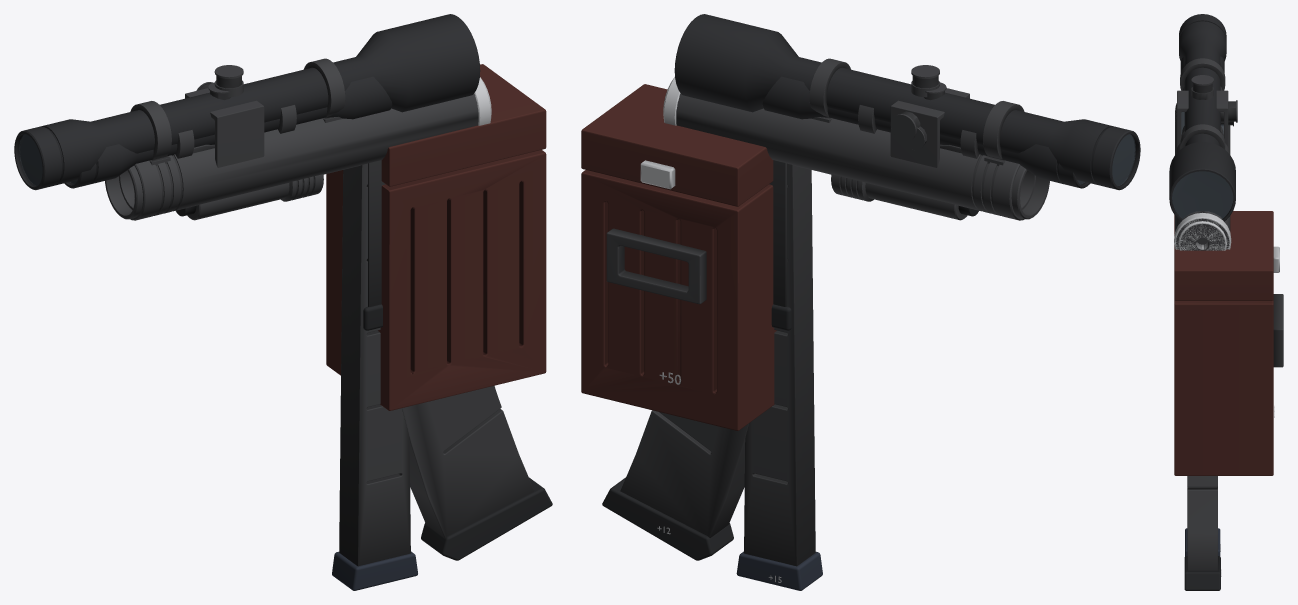
The model's file is kit.glb.
3 views of the same model, side by side, from view 1: azimuth 30°, elevation 25°; view 2: azimuth 150°, elevation 25°; view 3: azimuth 270°, elevation 25° (orthographic). The views are drawn at different scales.
Parts seen in each view (by area): view 1: KIT_mag_lmg, KIT_scope_long, KIT_mag_smg, KIT_mag_rifle, KIT_sup_sniper, KIT_scope, KIT_holo, KIT_mag_sniper, KIT_light, KIT_sup_lmg; view 2: KIT_mag_lmg, KIT_scope_long, KIT_mag_smg, KIT_sup_sniper, KIT_mag_rifle, KIT_scope, KIT_mag_sniper, KIT_light, KIT_holo, KIT_sup_lmg; view 3: KIT_mag_lmg, KIT_scope_long, KIT_mag_rifle, KIT_sup_sniper, KIT_sup_pistol, KIT_holo, KIT_scope.
Part boxes in pixels (left/top/right/bottom): KIT_mag_lmg: left=326, top=64, right=546, bottom=410; KIT_scope_long: left=14, top=14, right=480, bottom=190; KIT_mag_smg: left=332, top=163, right=417, bottom=590; KIT_mag_rifle: left=402, top=385, right=552, bottom=560; KIT_sup_sniper: left=130, top=77, right=491, bottom=220; KIT_scope: left=64, top=76, right=392, bottom=188; KIT_holo: left=185, top=88, right=264, bottom=167; KIT_mag_sniper: left=363, top=160, right=385, bottom=330; KIT_light: left=176, top=174, right=323, bottom=220; KIT_sup_lmg: left=105, top=165, right=142, bottom=219; KIT_mag_lmg: left=581, top=84, right=776, bottom=430; KIT_scope_long: left=674, top=14, right=1140, bottom=190; KIT_mag_smg: left=736, top=163, right=822, bottom=590; KIT_sup_sniper: left=663, top=77, right=1024, bottom=220; KIT_mag_rifle: left=602, top=410, right=748, bottom=560; KIT_scope: left=762, top=76, right=1090, bottom=188; KIT_mag_sniper: left=769, top=160, right=791, bottom=330; KIT_light: left=831, top=174, right=978, bottom=220; KIT_holo: left=890, top=88, right=969, bottom=167; KIT_sup_lmg: left=1011, top=165, right=1049, bottom=219; KIT_mag_lmg: left=1174, top=211, right=1283, bottom=475; KIT_scope_long: left=1169, top=14, right=1237, bottom=221; KIT_mag_rifle: left=1184, top=476, right=1221, bottom=590; KIT_sup_sniper: left=1174, top=103, right=1231, bottom=249; KIT_sup_pistol: left=1178, top=221, right=1226, bottom=250; KIT_holo: left=1177, top=90, right=1228, bottom=147; KIT_scope: left=1180, top=56, right=1233, bottom=136.
Bounding box in the file's own units: 0.3255 × 0.3276 × 0.0805.
